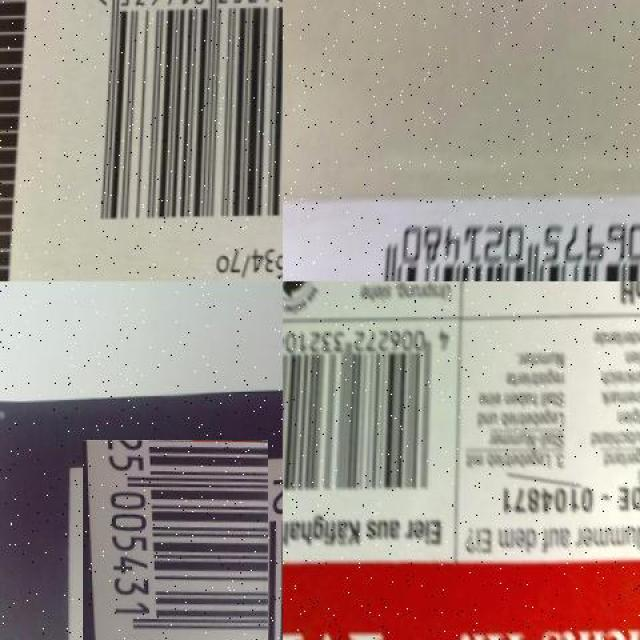Barcode: (57, 0, 283, 281), (76, 447, 276, 640), (283, 318, 460, 506), (363, 201, 640, 281)
